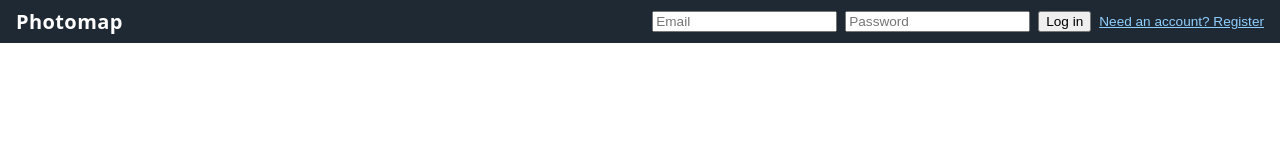
it: TopBanner (real login/register, account-mode controls) › login failure surfaces the backend error message and stays in the logged-out form
Type "user@example.com" into the field with placeholder "Email" at (745, 22), box [652,11,837,32]
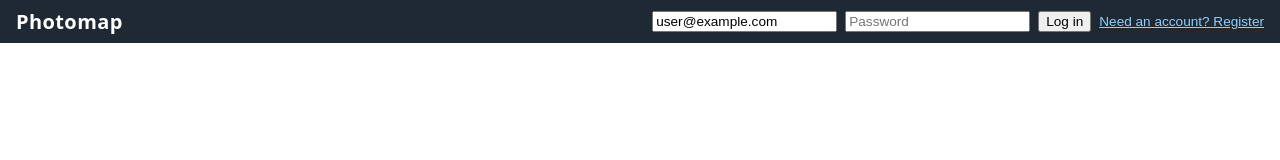
Type "wrong" into the password field with placeholder "Password" at (938, 22), box [845,11,1030,32]
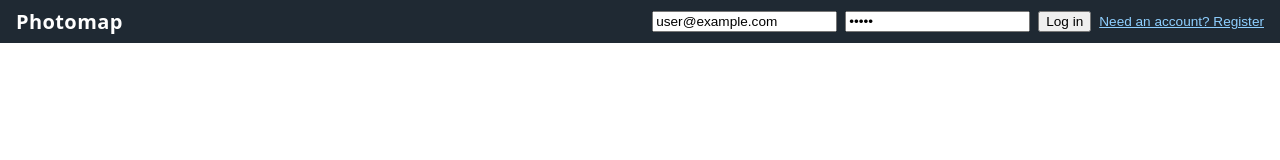
Click the button "Log in" at (1065, 22), box [1038,11,1091,32]
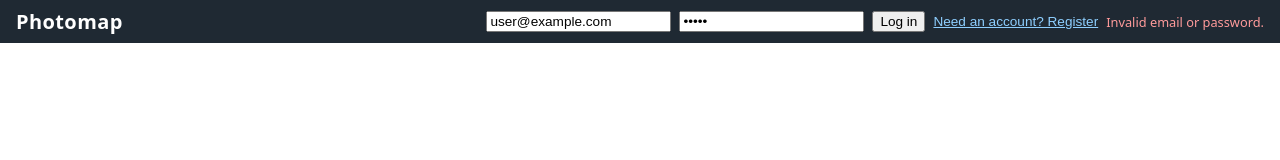
Expected: the message reads "Invalid email or password.", [1106,12,1264,30]
